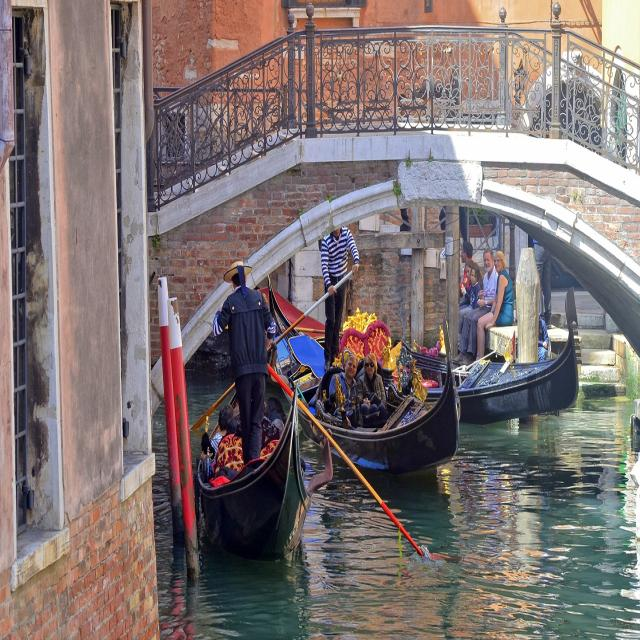boat: (247, 258, 471, 488), (191, 348, 326, 576)
